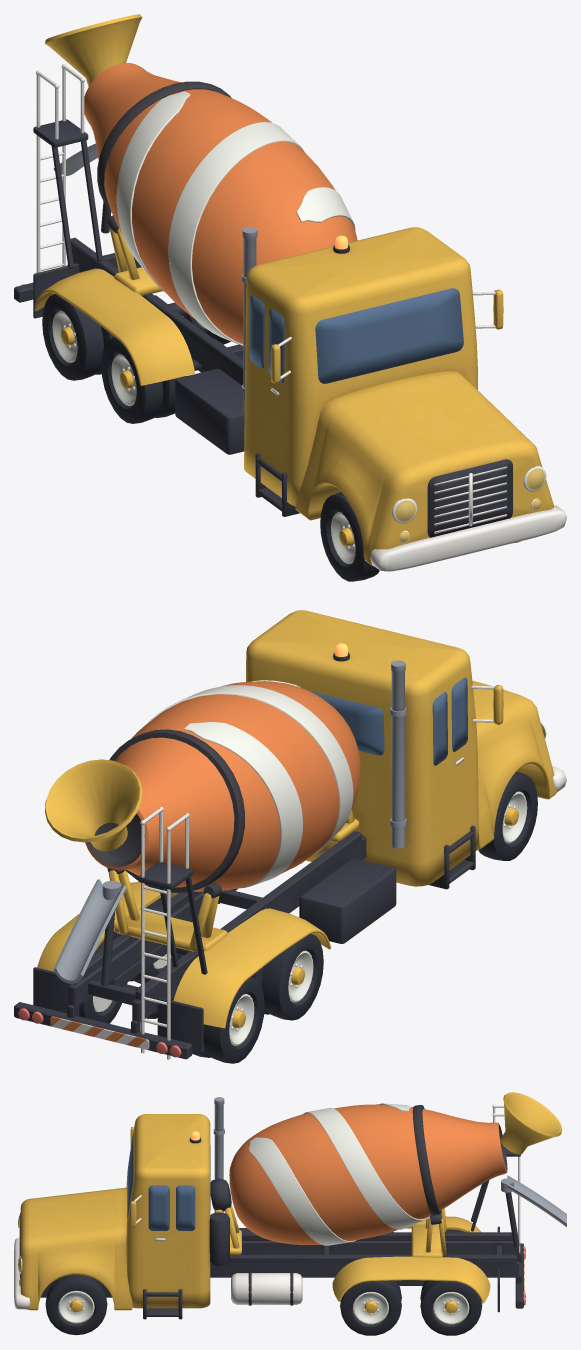
File: mixer.glb
3 views of the same model, one above another, from view 1: azimuth 30°, elevation 25°; view 2: azimuth 150°, elevation 25°; view 3: azimuth 270°, elevation 25° (orthographic). The views are drawn at different scales.
Parts seen in each view (by area): view 1: concrete-mixer-truck_body, concrete-mixer-truck_drum; view 2: concrete-mixer-truck_body, concrete-mixer-truck_drum; view 3: concrete-mixer-truck_body, concrete-mixer-truck_drum.
Part boxes in pixels (bbox=[...]): concrete-mixer-truck_body: bbox=[14, 14, 566, 571]; concrete-mixer-truck_drum: bbox=[21, 63, 546, 581]; concrete-mixer-truck_body: bbox=[14, 610, 566, 1059]; concrete-mixer-truck_drum: bbox=[18, 677, 546, 1063]; concrete-mixer-truck_body: bbox=[14, 1092, 566, 1319]; concrete-mixer-truck_drum: bbox=[18, 1103, 525, 1335].
Size of the model in its own units: 3.03 by 3.89 by 9.29.
3 materials, 3 textured.
